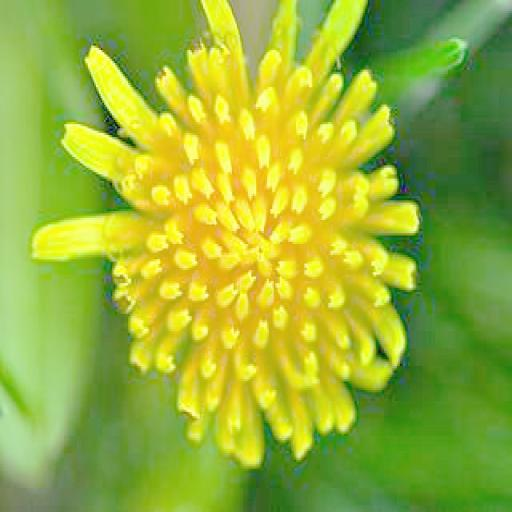dandelion: (110, 39, 416, 466)
